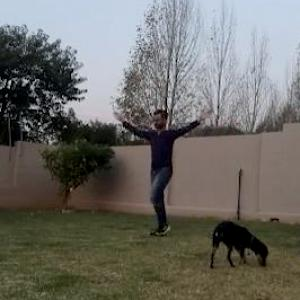takeoff: (127, 102, 252, 245)
